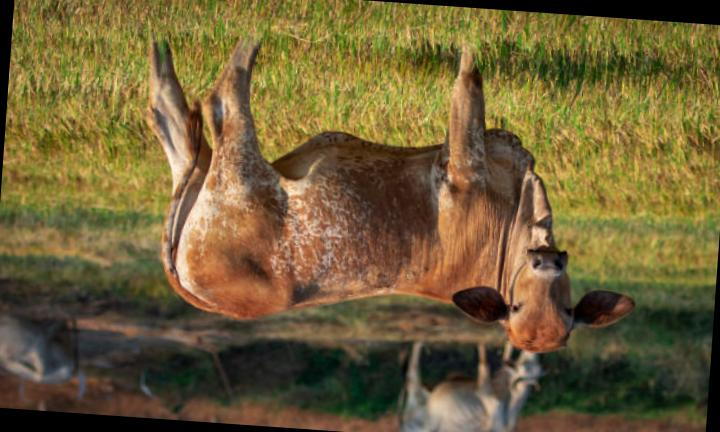Brahman: (150, 44, 634, 353)
